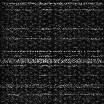lte: (1, 57, 104, 63), (1, 2, 104, 5), (1, 27, 104, 29), (1, 50, 104, 52)
